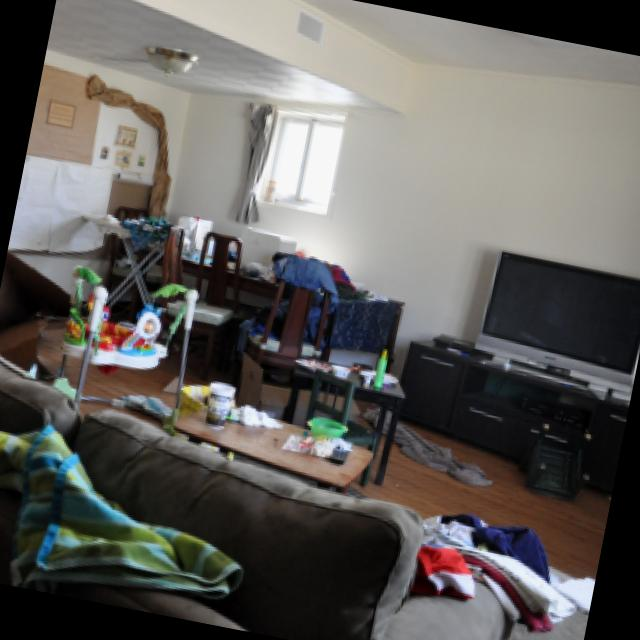mess: (81, 180, 384, 353), (291, 488, 602, 640), (168, 368, 374, 509), (56, 414, 198, 616), (0, 379, 96, 595)
